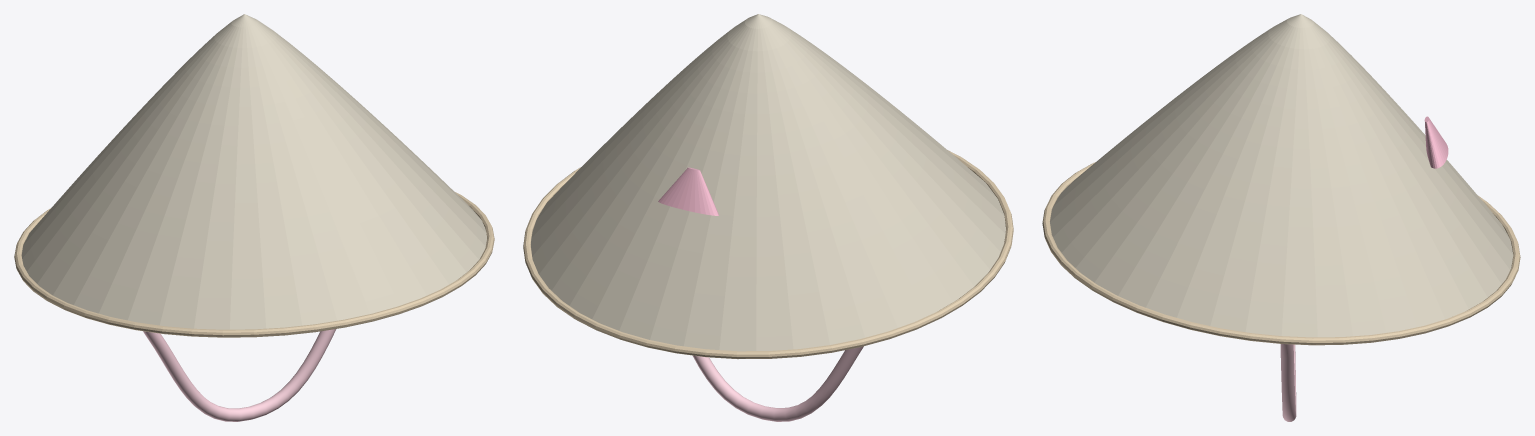
File: non_la_blender.glb
3 renders of one model, left to right at view 1: azimuth 30°, elevation 25°; view 2: azimuth 150°, elevation 25°; view 3: azimuth 270°, elevation 25°, orthographic. The views are drawn at different scales.
Visible parts, largest first — view 1: Non_La_Theu_Sen, Non_La_Vanh_Cai, Non_La_Quai_Lua; view 2: Non_La_Theu_Sen, Non_La_Vanh_Cai, Non_La_Quai_Lua, Non_La_Hoa_Sen; view 3: Non_La_Theu_Sen, Non_La_Vanh_Cai, Non_La_Quai_Lua, Non_La_Hoa_Sen.
Boxes of the visible parts, x1,y1,x2,y2 form: Non_La_Theu_Sen: (21, 14, 486, 329); Non_La_Vanh_Cai: (14, 192, 494, 337); Non_La_Quai_Lua: (143, 329, 336, 421); Non_La_Theu_Sen: (531, 14, 1005, 351); Non_La_Vanh_Cai: (523, 150, 1013, 359); Non_La_Quai_Lua: (692, 346, 863, 421); Non_La_Hoa_Sen: (658, 167, 718, 215); Non_La_Theu_Sen: (1050, 14, 1513, 337); Non_La_Vanh_Cai: (1042, 162, 1520, 345); Non_La_Quai_Lua: (1280, 344, 1296, 421); Non_La_Hoa_Sen: (1424, 116, 1448, 168).
Size of the model in its own units: 0.3976 by 0.3659 by 0.3964.
